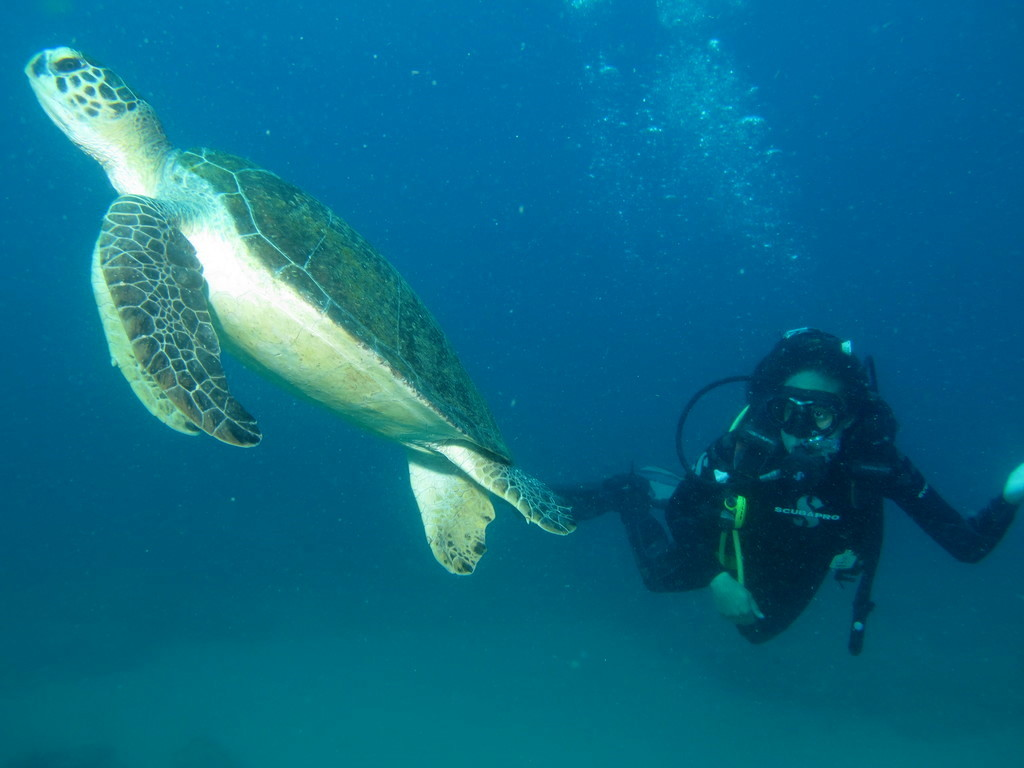Sea turtles: (16, 38, 597, 577)
